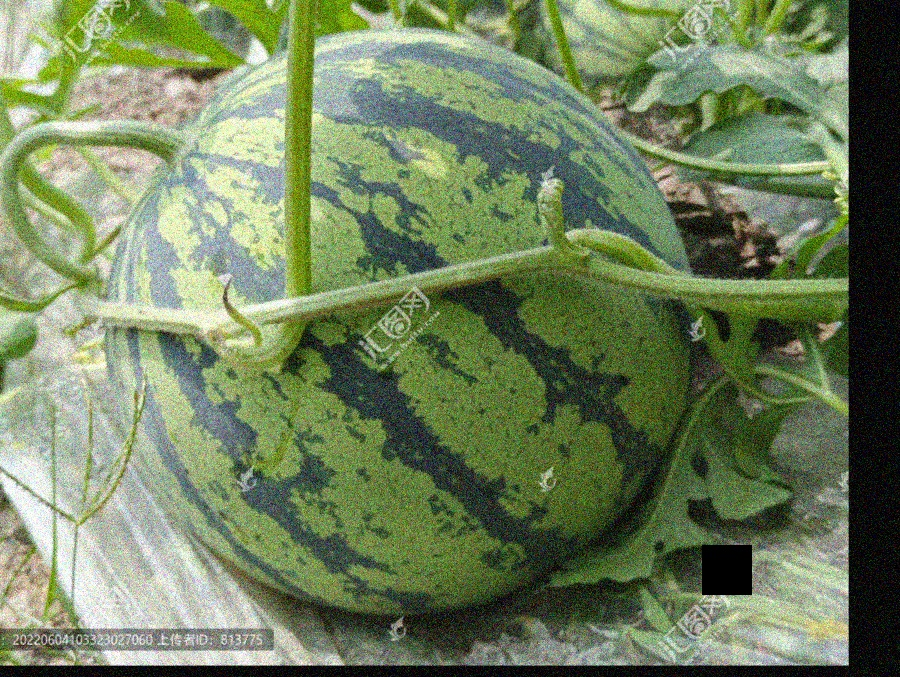watermelon: (113, 27, 697, 622)
